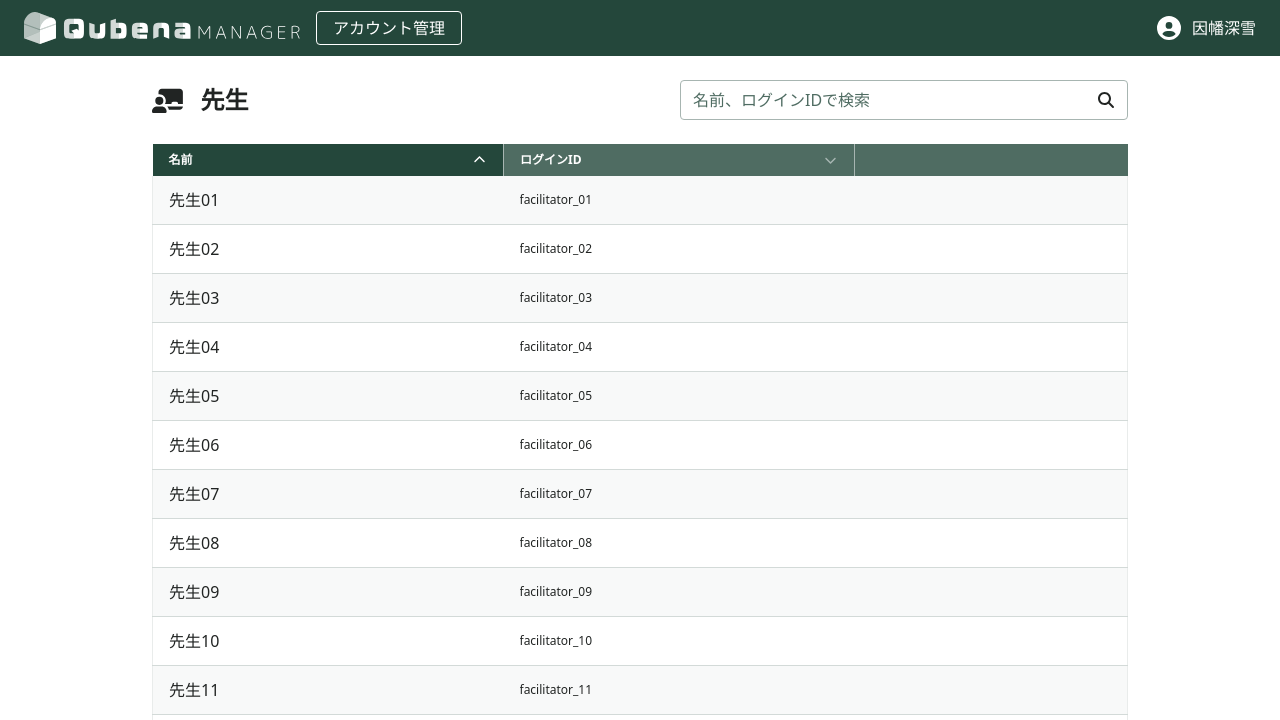
Test case: FacilitatorListPage › 検索で部分一致の絞り込みができる
Check: the text "先生01" is shown, box [169, 189, 219, 211]
Step 1. Type "facilitator_2" into the search field labelled "名前、ログインIDで検索" → (904, 100), box [680, 80, 1128, 120]
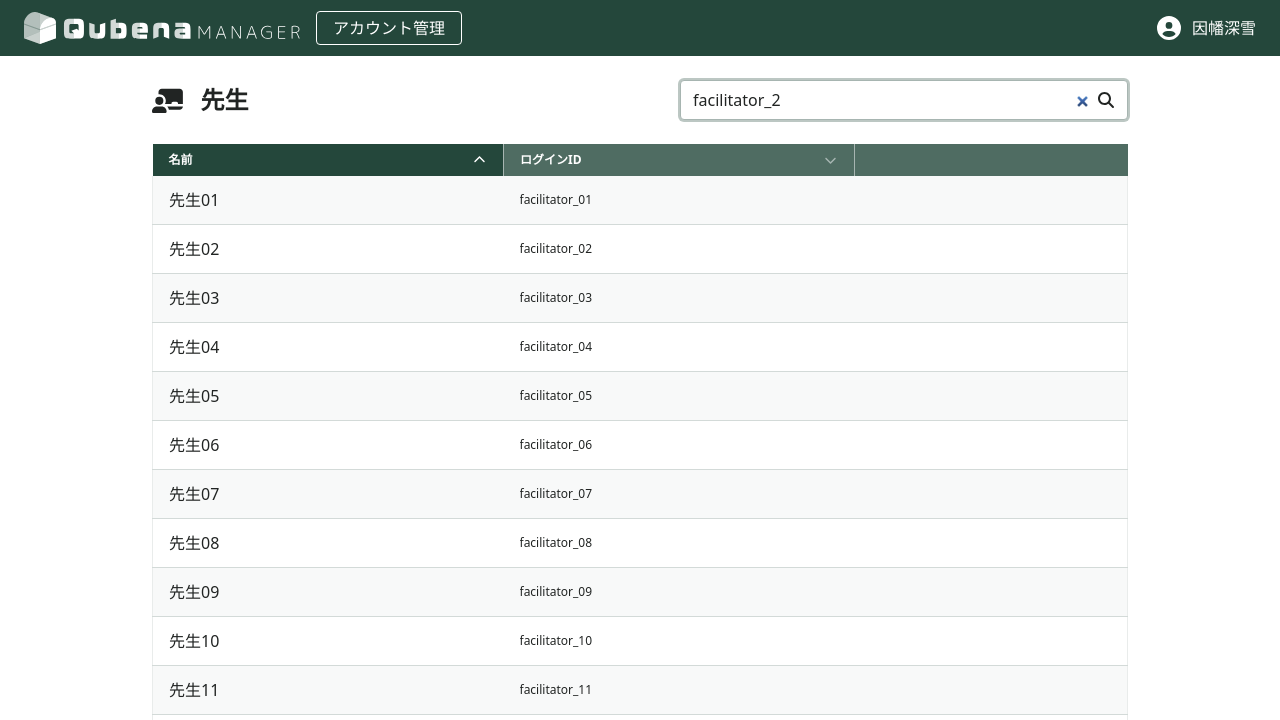
Step 2. Press Enter
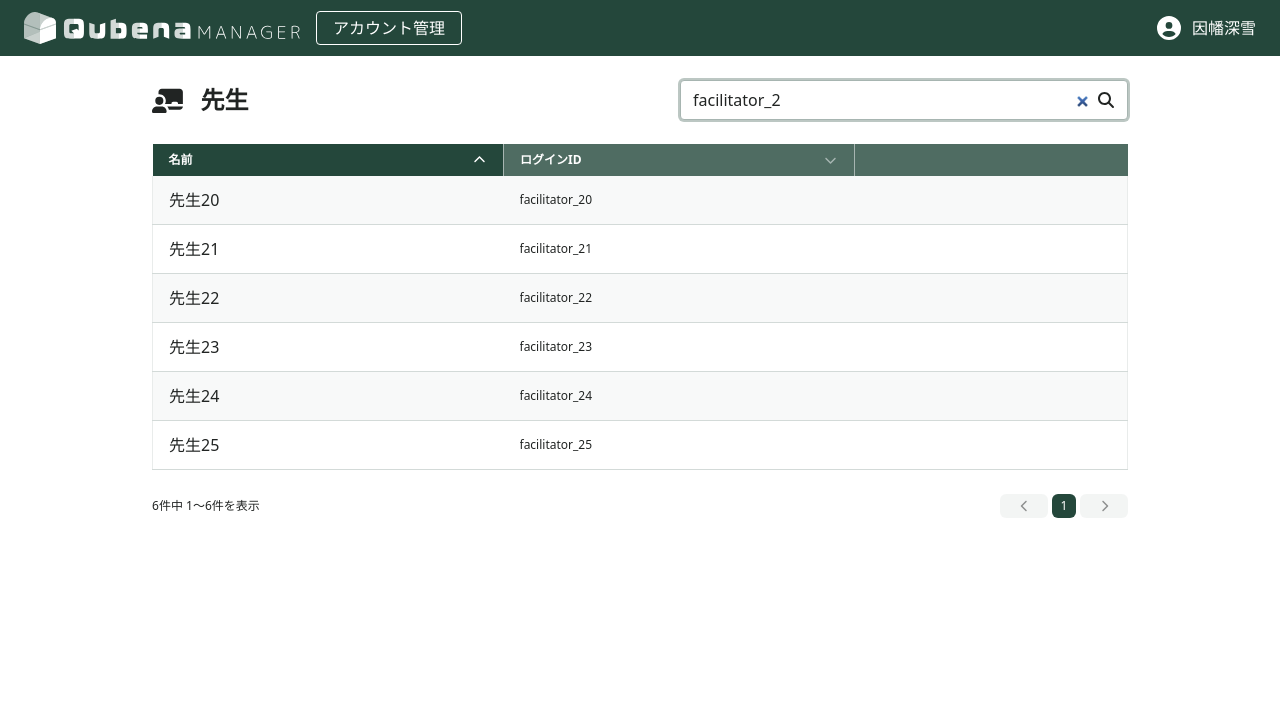
Check: the text "先生20" is shown, box [169, 189, 219, 211]
Check: the text "先生01" is gone
Check: the text "6件中 1〜6件を表示" is shown, box [152, 498, 260, 514]
